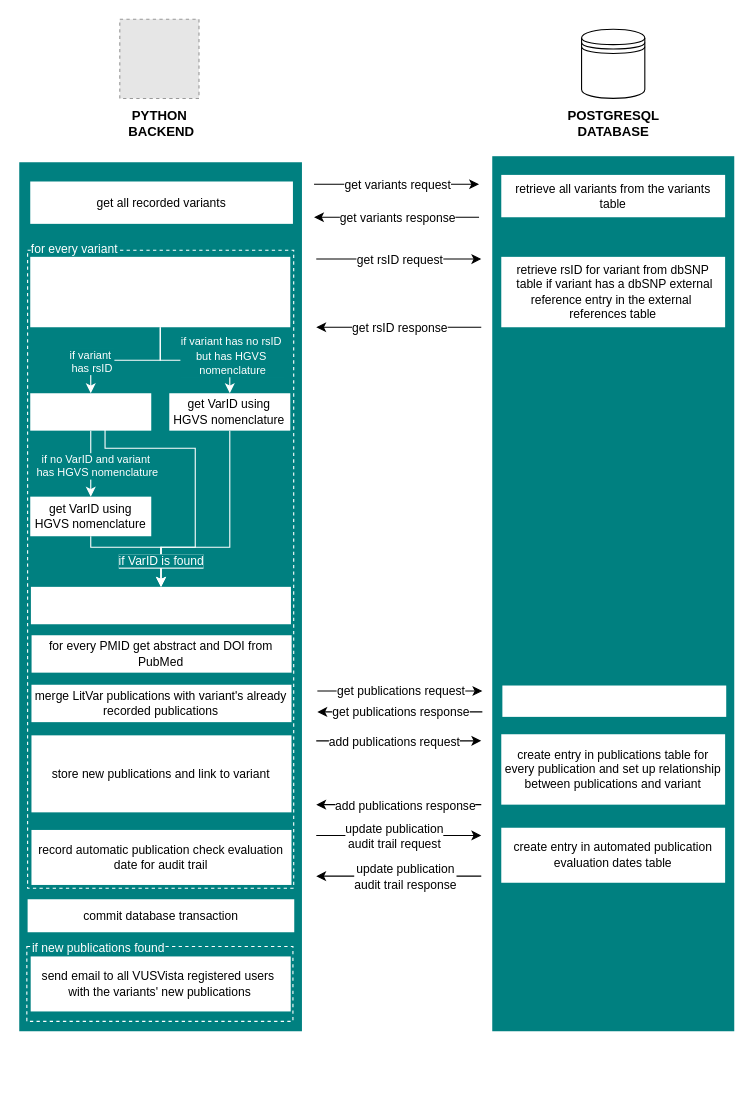
Some shapes in this 752 by 1098 pixel diagram are drawn without their labels. Grey dashed boxes stand in for pictures. The shapes that lost their labels are listed below. From the top down, each one's centre as x and y in pixels, then its label:
the point at 160,291: get variant's rsID
the point at 90,411: get LitVar's identifier (VarID) using the rsID
the point at 160,605: get publication PMIDs through LitVar using the VarID
the point at 614,700: retrieve publications linked to variant from publications table
